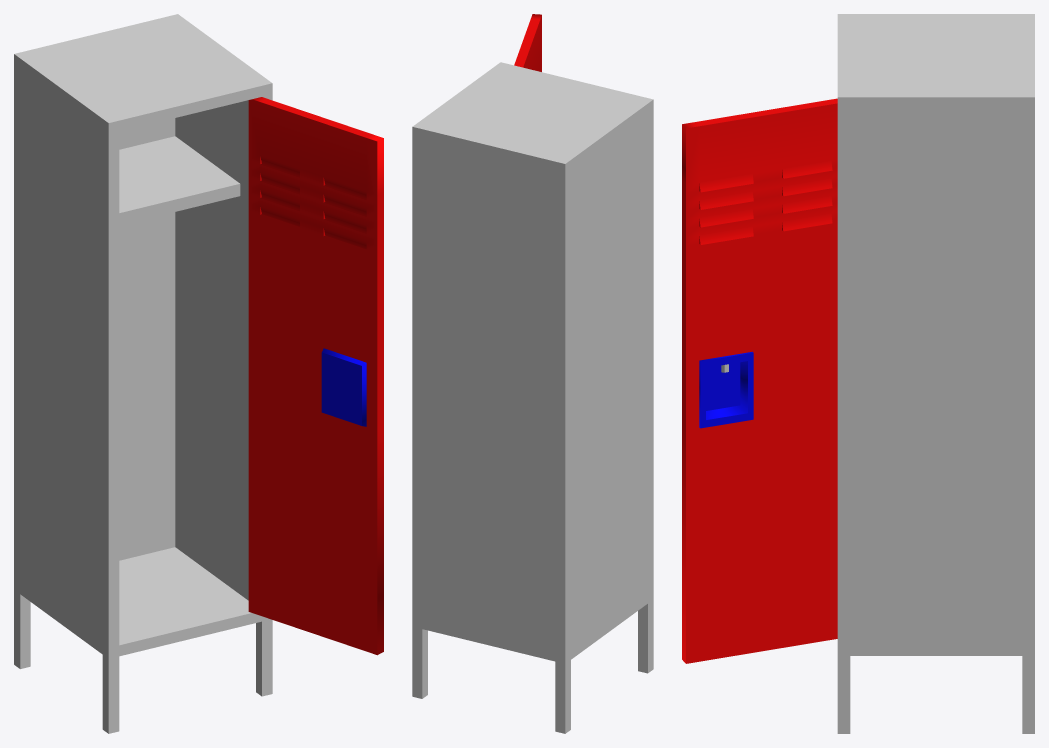
The model's file is Her_lockeropen_ZW.fbx.
3 renders of one model, left to right at view 1: azimuth 30°, elevation 25°; view 2: azimuth 150°, elevation 25°; view 3: azimuth 270°, elevation 25°, orthographic. The views are drawn at different scales.
Parts seen in each view (by area): view 1: Box001, Object002; view 2: Box001, Object002; view 3: Box001, Object002.
Boxes of the visible parts, bbox=[...] form: Box001: bbox=[14, 14, 272, 733]; Object002: bbox=[248, 97, 383, 655]; Box001: bbox=[412, 62, 653, 733]; Object002: bbox=[514, 14, 541, 71]; Box001: bbox=[837, 14, 1034, 733]; Object002: bbox=[682, 98, 837, 663].
Size of the model in its own units: 19.77 by 57 by 28.63.
